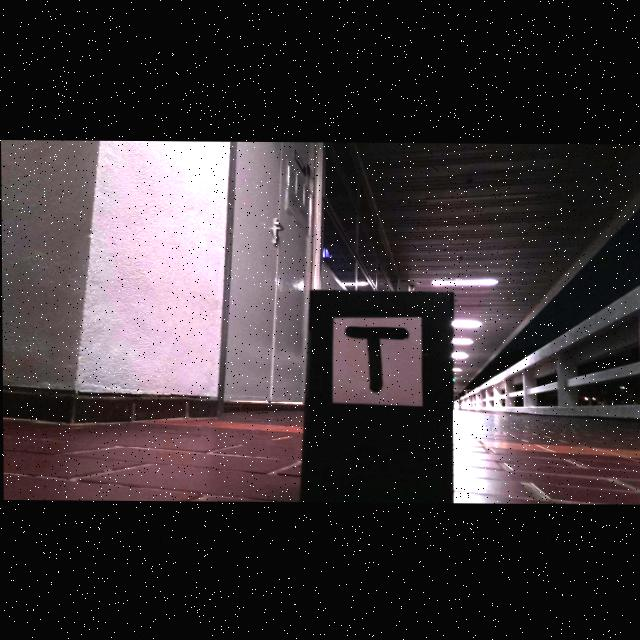T: (345, 326, 406, 393)
